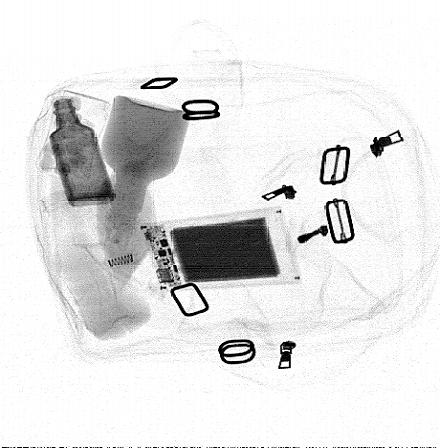Powerbank: (138, 207, 301, 293)
